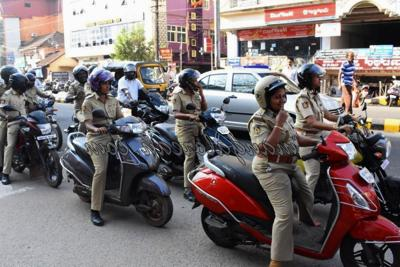With Helmet: (251, 72, 291, 115), (295, 60, 326, 95), (86, 64, 115, 96), (176, 63, 204, 95)
